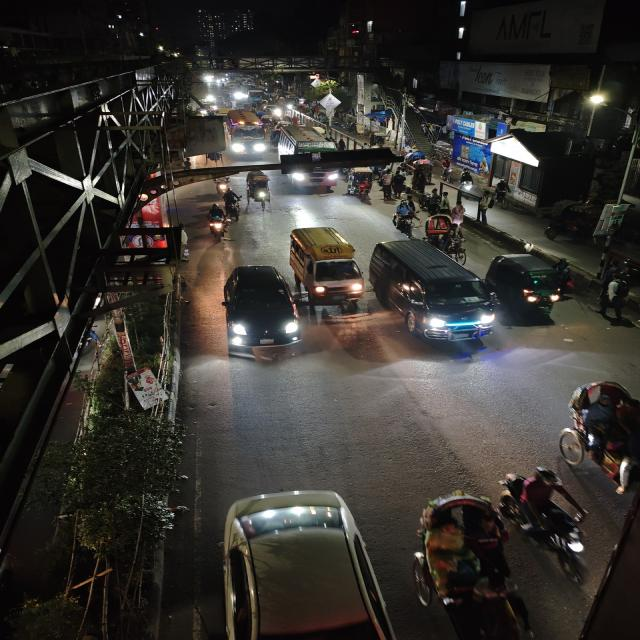bus: (274, 125, 338, 191), (224, 109, 270, 162)
car: (214, 483, 388, 640), (371, 236, 500, 348), (217, 262, 301, 364)
cng: (488, 252, 580, 310)
human_hauler: (285, 222, 367, 306)
motorcycle: (496, 464, 604, 576), (203, 203, 231, 242)
pedestrian: (604, 279, 634, 323), (393, 196, 417, 226), (475, 188, 494, 224), (448, 199, 469, 227), (492, 179, 510, 208), (378, 172, 396, 200), (390, 170, 408, 198), (422, 188, 440, 214), (458, 170, 475, 194), (438, 191, 452, 213)
rickshaw: (408, 486, 517, 632), (554, 375, 640, 497), (422, 212, 458, 248), (243, 171, 276, 209), (344, 168, 376, 202)
